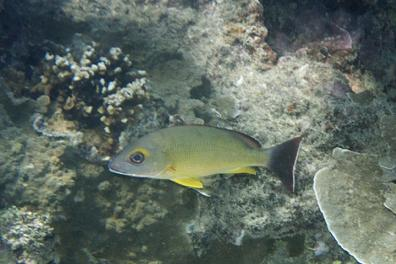Lutjanidae -Snappers-: (98, 119, 306, 196)
